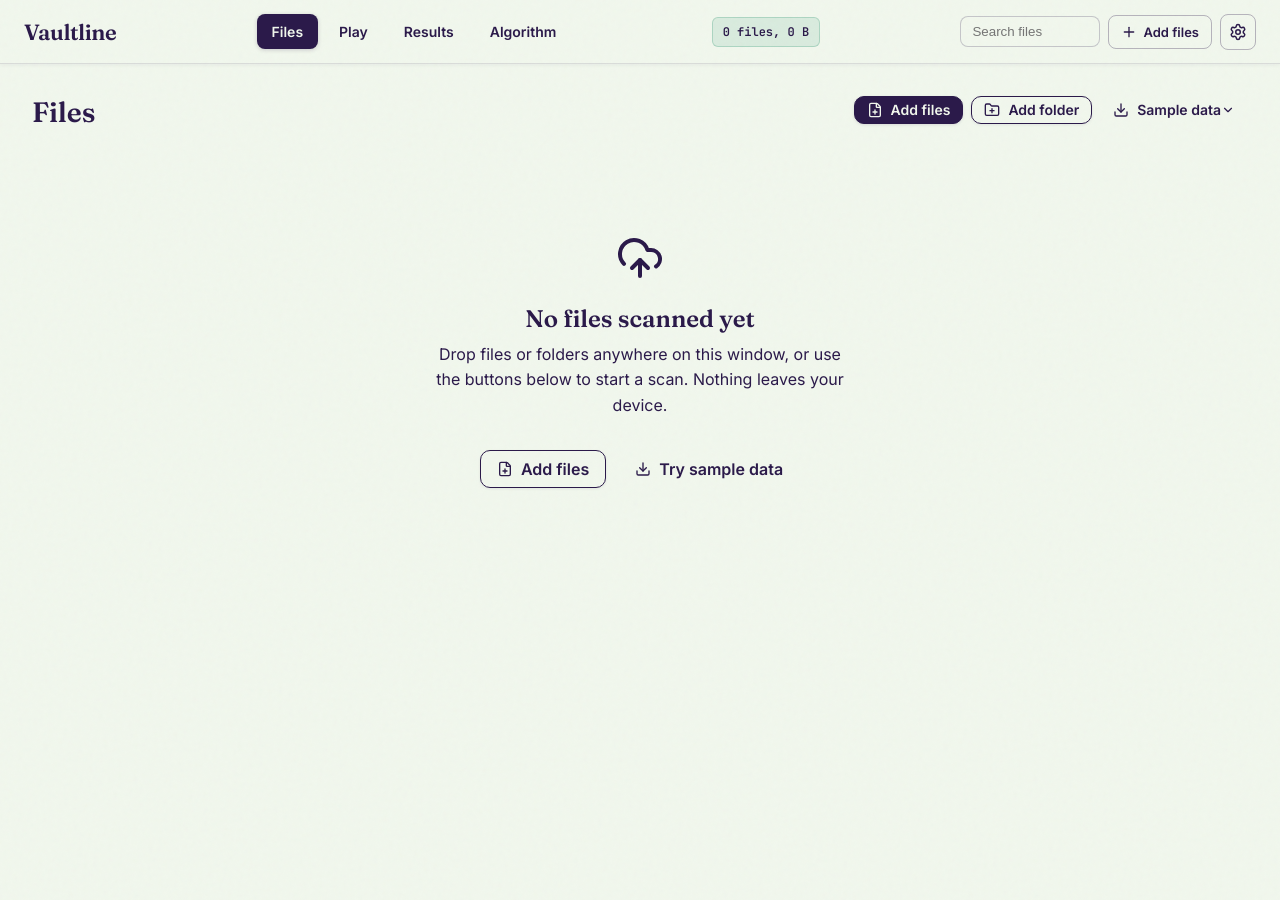
Scenario: simplified navigation › keeps engine and scale options inside Settings > Advanced
Click the button named "Settings".
click(1238, 32)  # box [1220,14,1256,50]
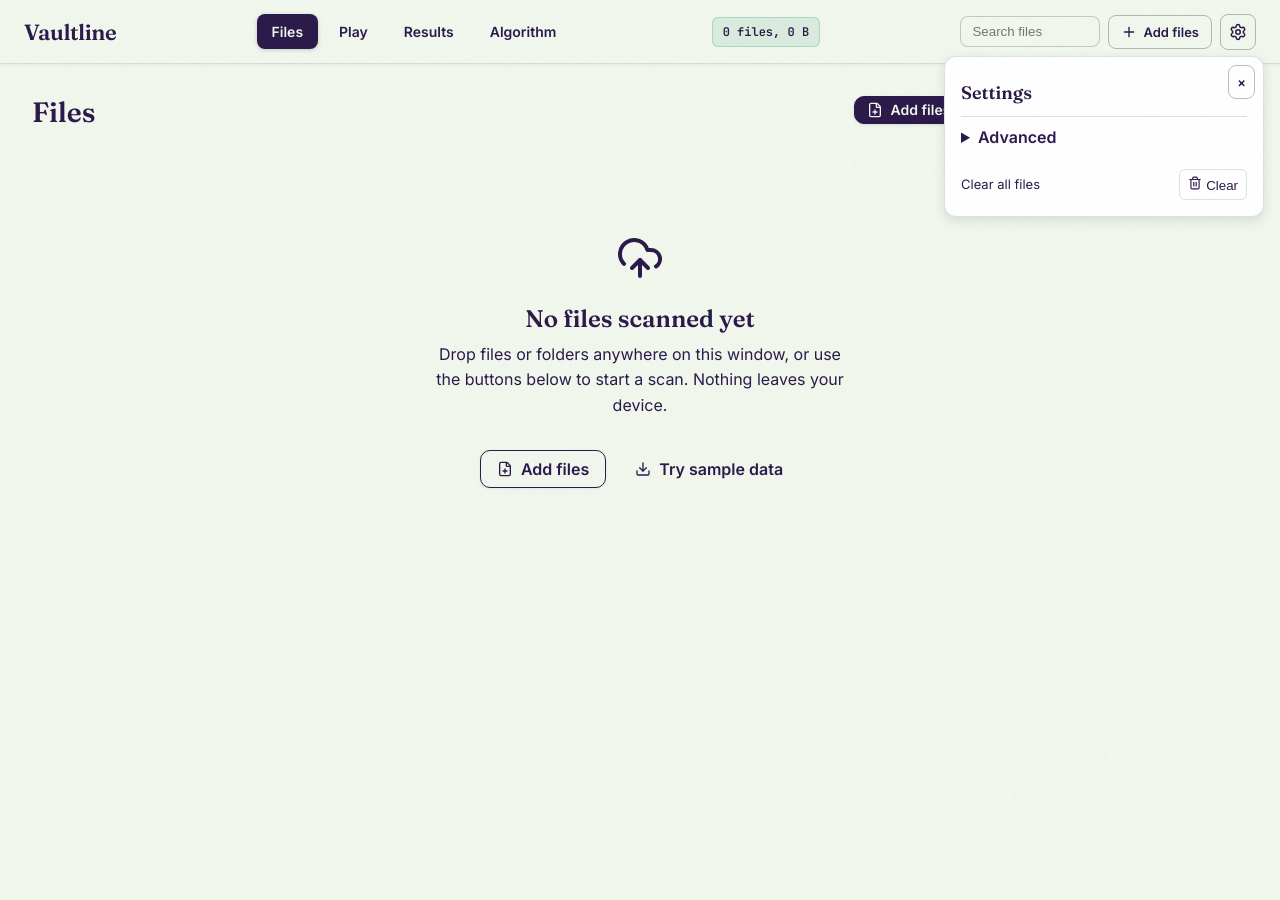
Click the heading "Advanced".
click(1017, 137)  # box [978,127,1056,147]
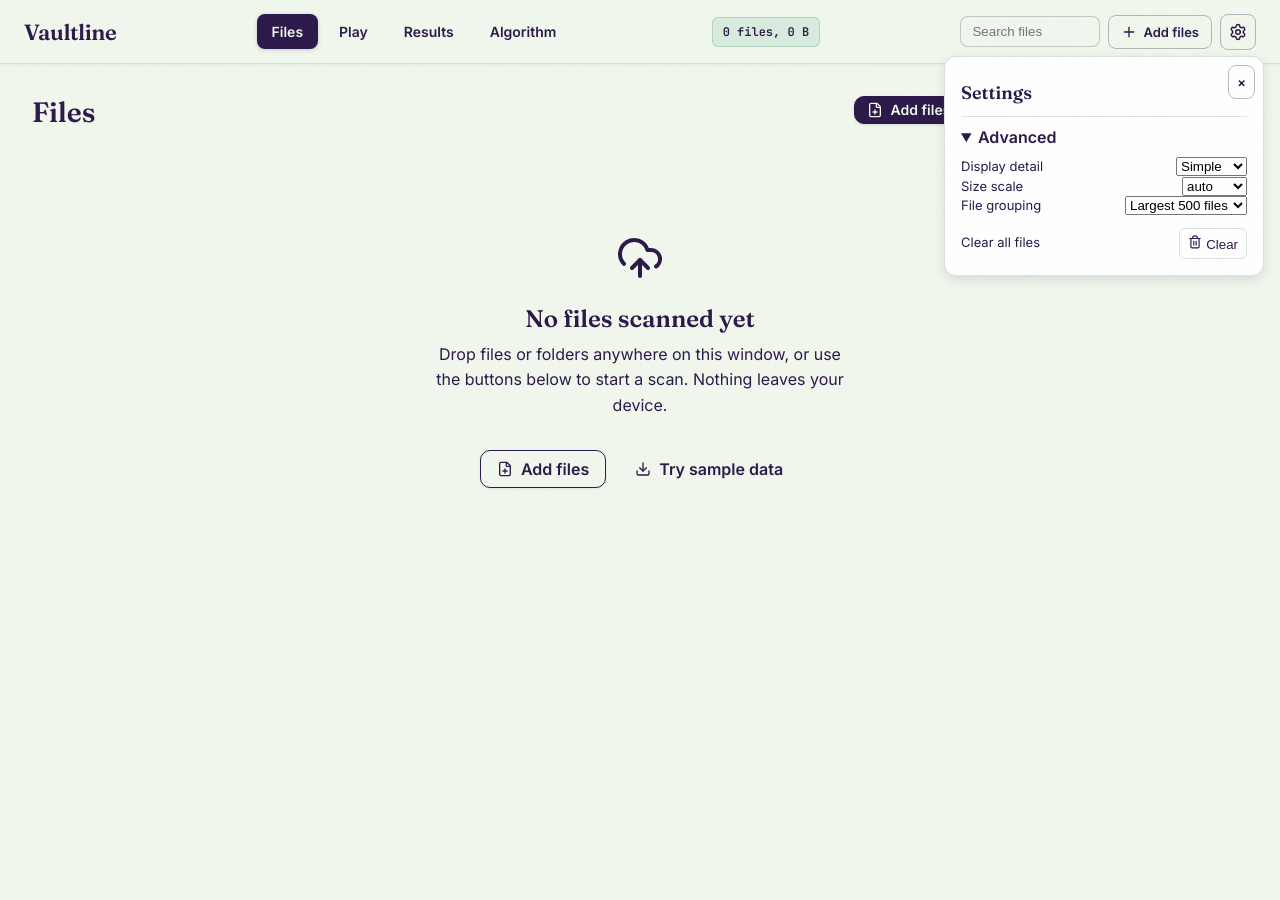
expect the dropdown labelled "Size scale" is shown: met, box [1182,177,1247,196]
expect the dropdown labelled "File grouping" is shown: met, box [1125,196,1247,215]
